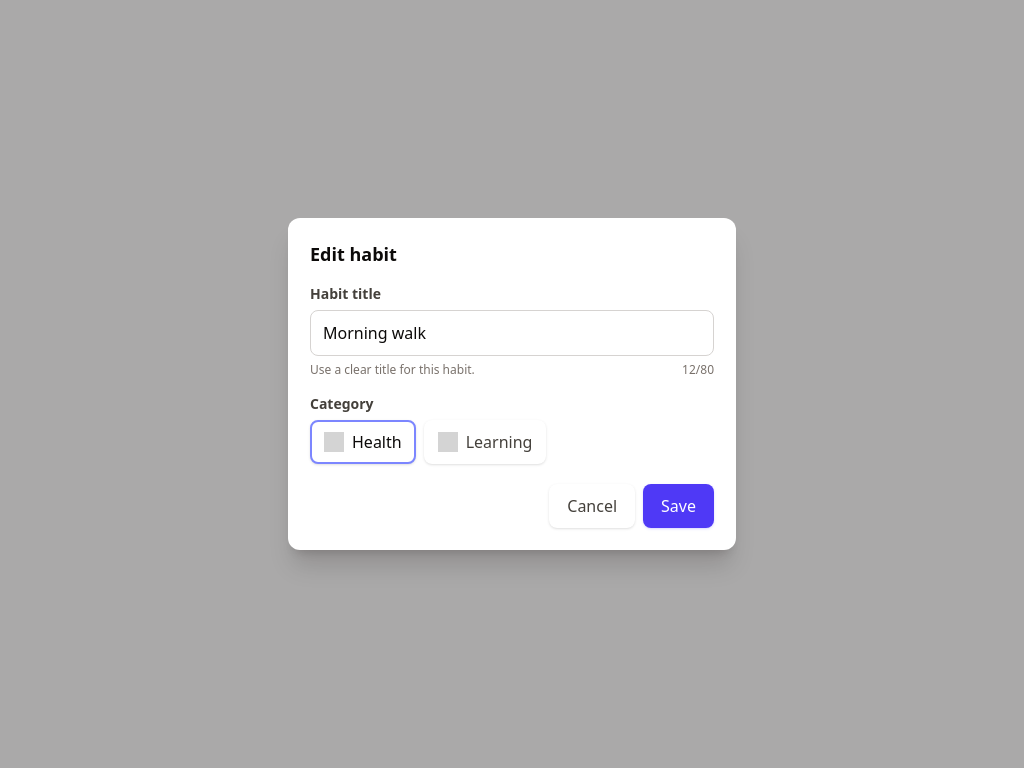
it: habit mutation modals › shows backend errors when updating a habit fails
Click the button "Save": (679, 506) x1=643 y1=484 x2=714 y2=528
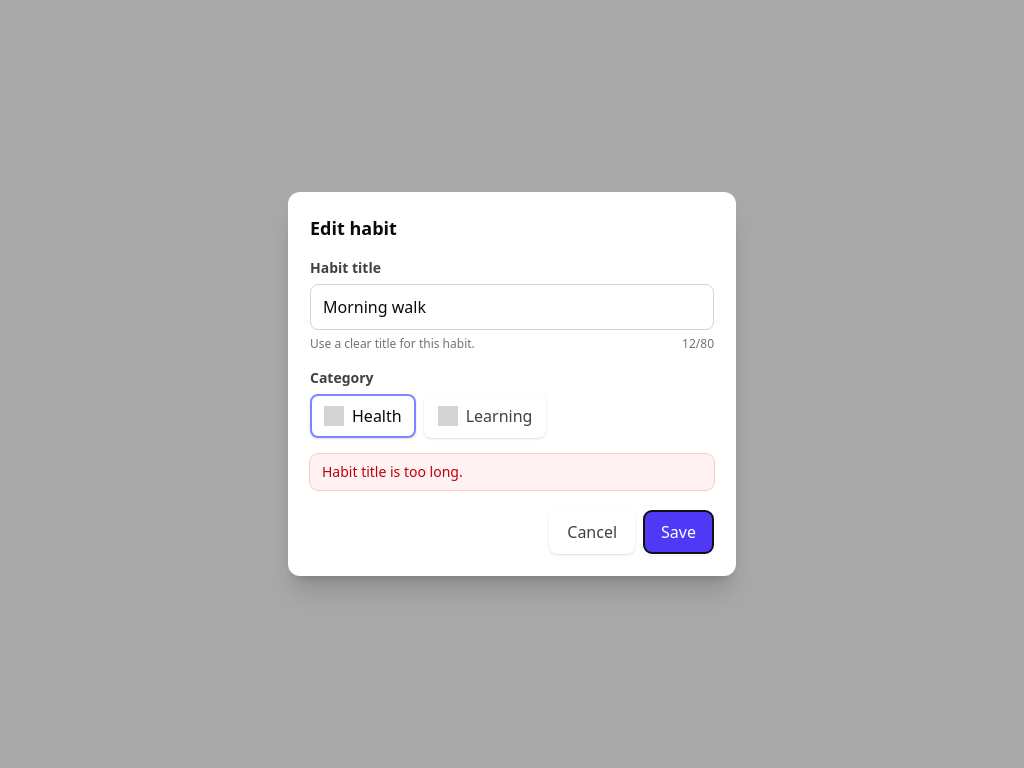
Expected: the dialog "Edit habit" is shown, x1=288 y1=192 x2=736 y2=576
Expected: the text "Habit title is too long." is shown, x1=322 y1=462 x2=463 y2=481
